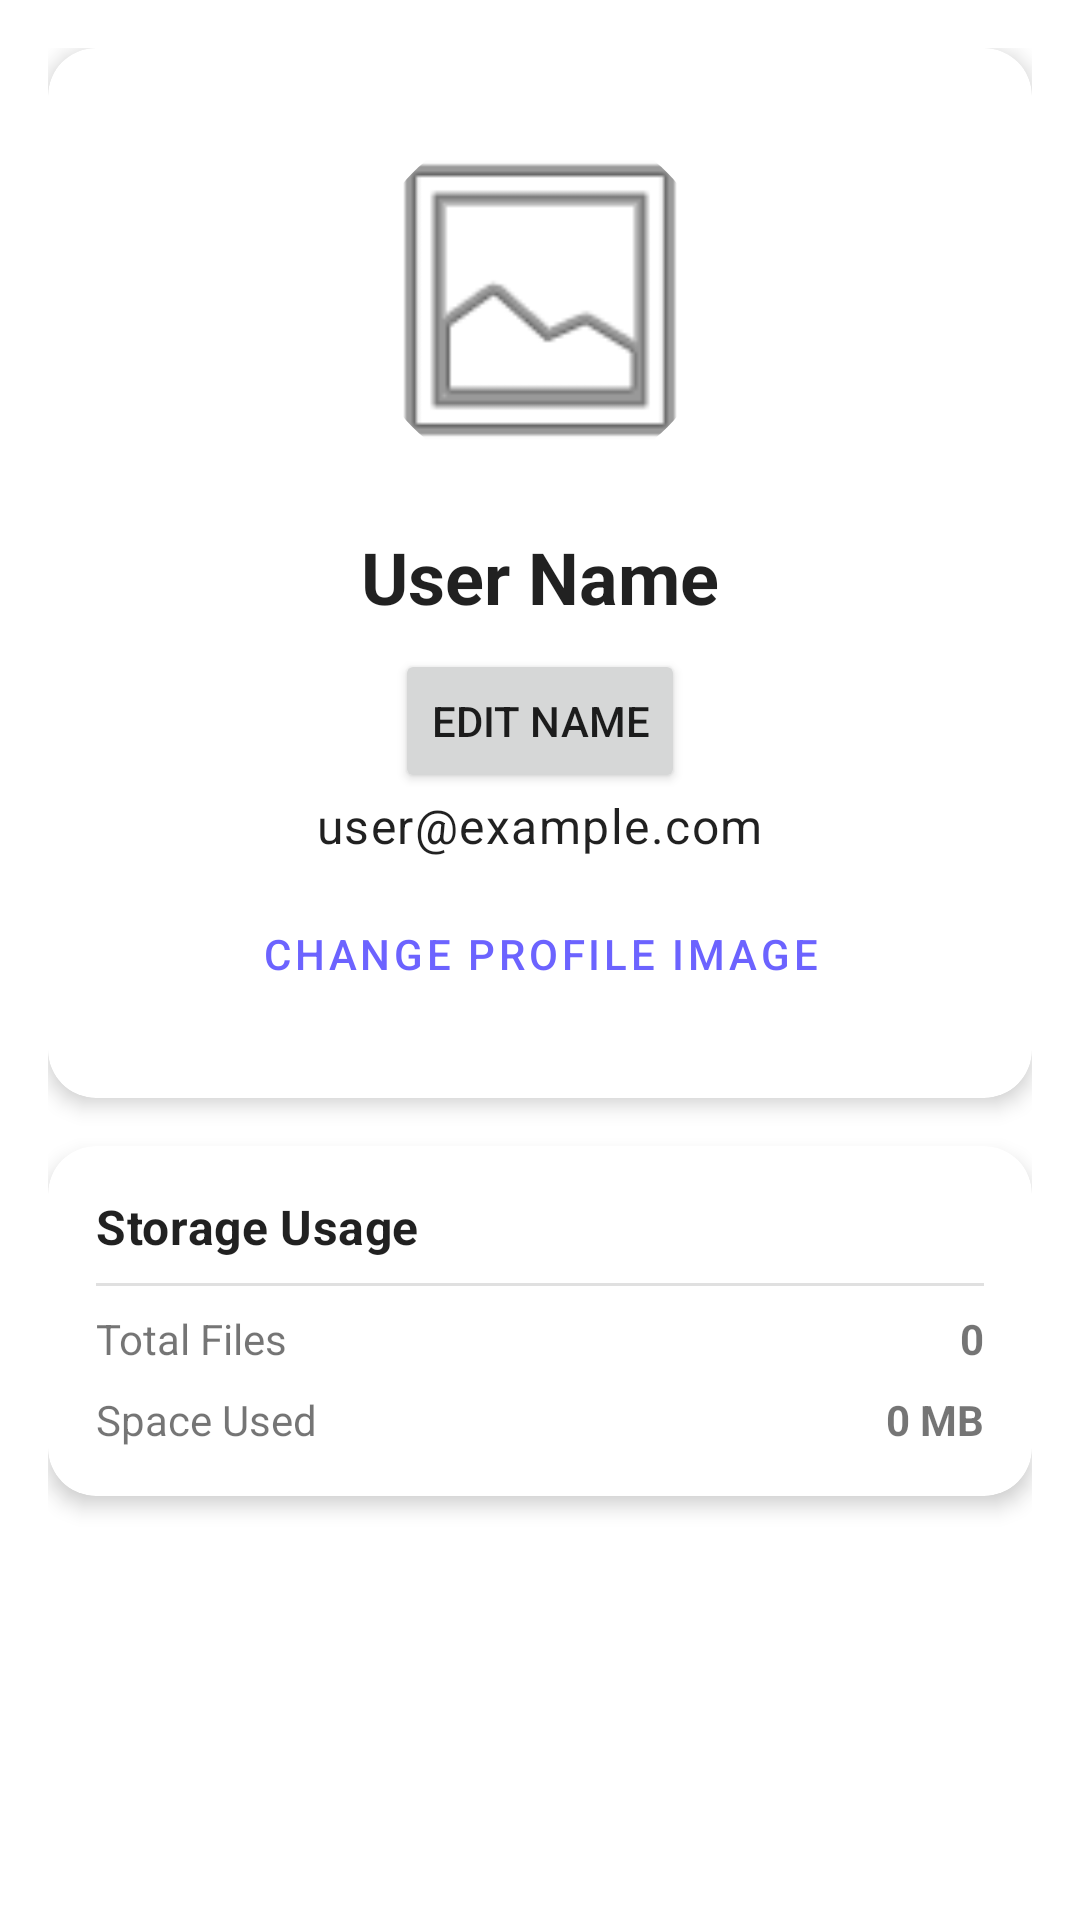

Icons on this 1080*1920 Android screen, each with the point to tap as [x,y]:
gallery: [540,300]
